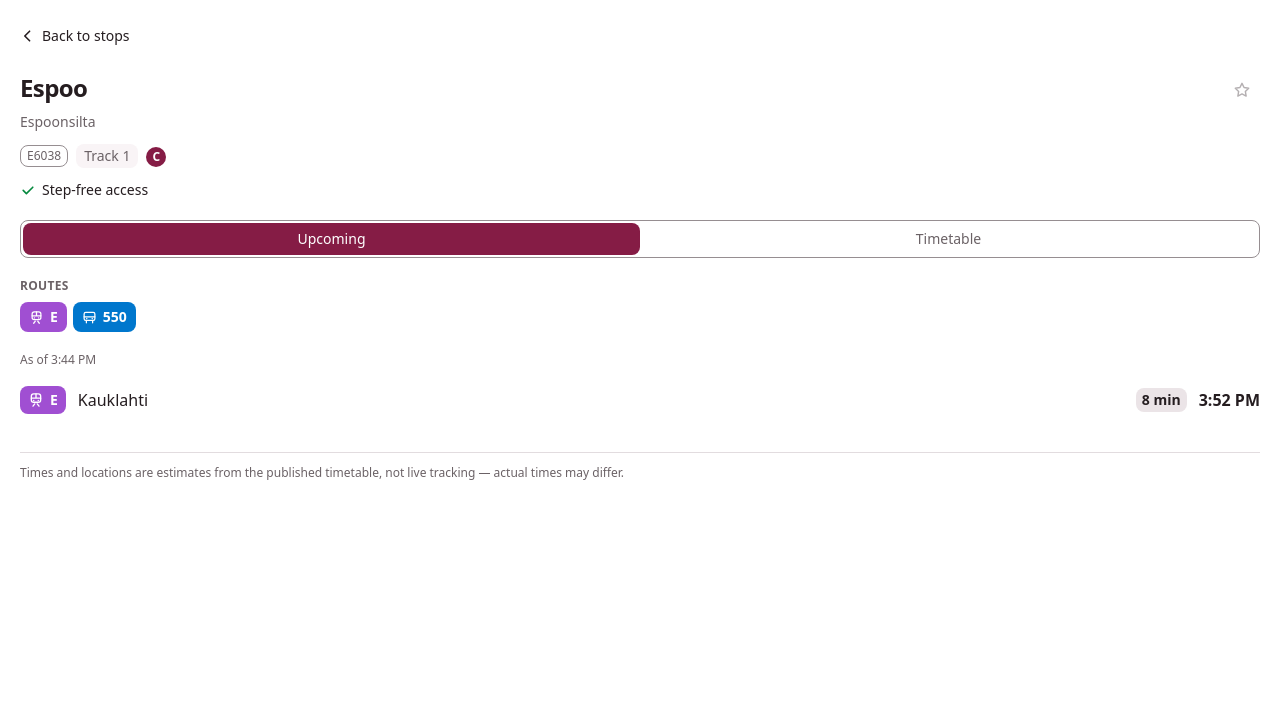
Test: StopInspector › counts down on the live board but never on the timetable
Expected: the text "8 min" is shown, [1136,388,1187,412]
Click the radio button labelled "Timetable". click: x=948, y=239
box: [640,223,1257,255]
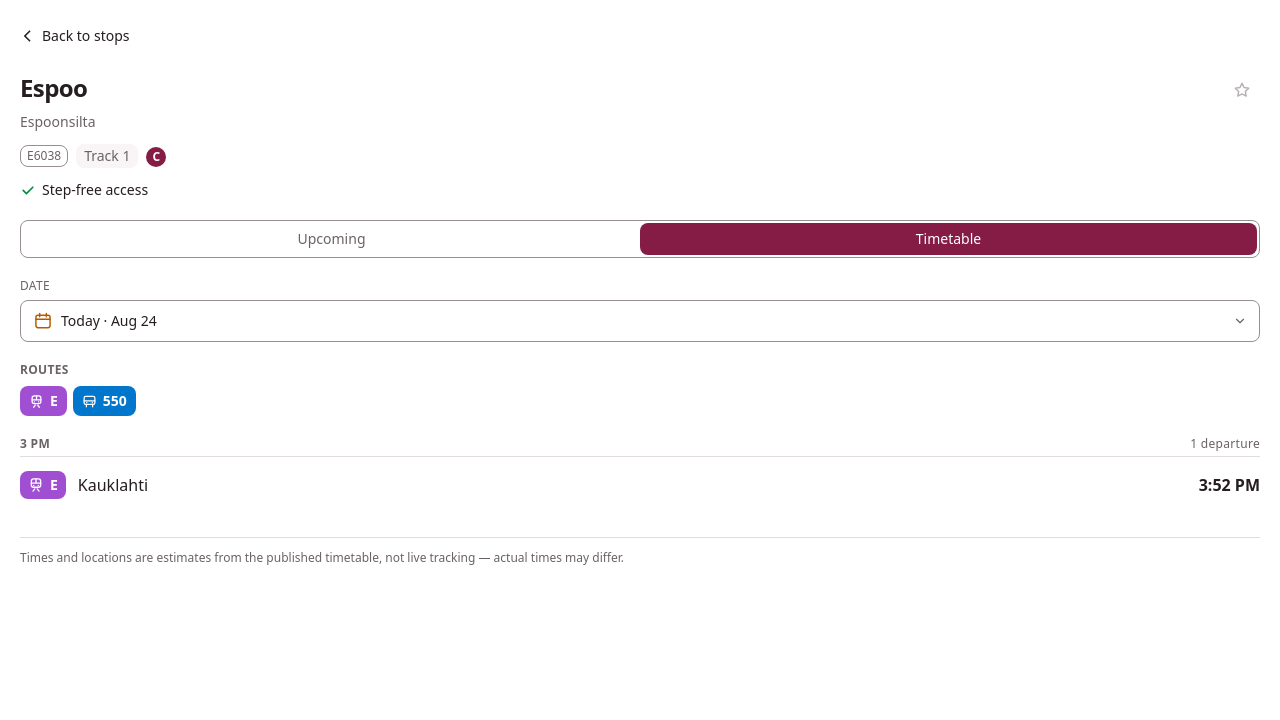
Expected: the text "Departs in 8 minutes" is not shown
Now the text "3 PM" is shown, box [20,436,50,452]
Now the link "8 min" is gone
